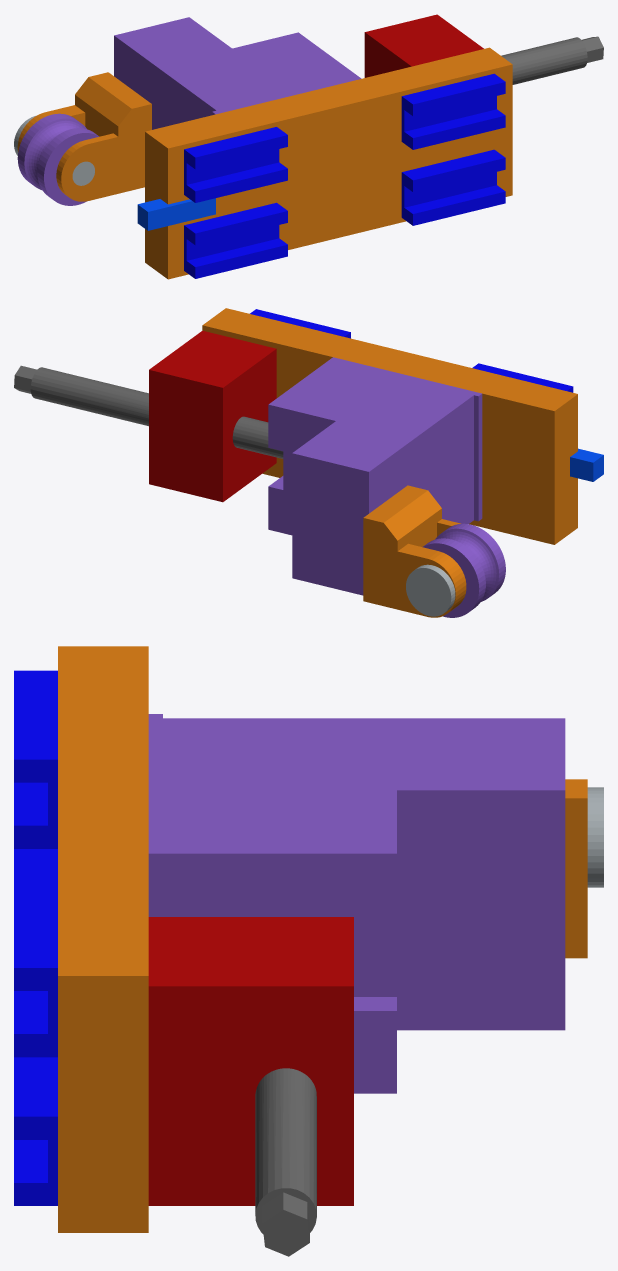
Rendered from mengene2.glb.
The picture shows the model from 3 angles, top to bottom: view 1: azimuth 30°, elevation 25°; view 2: azimuth 150°, elevation 25°; view 3: azimuth 270°, elevation 25°; orthographic projection. The views are drawn at different scales.
Visible parts, largest first — view 1: 02 - 15 - MENGENE TA\X2\015E\X0\IYICI, 02-08-Cene-Tasiyici-Delik-Delmeli-R013, 02 - 15 - MENGENE TA\X2\015E\X0\IYICI003, 02 - 18 - ROL\X2\0130\X0\NG -014, 02-08-Cene-Tasiyici-Delik-Delmeli-R002, 02 - 14 - MENGENE KOL V\X2\0130\X0\DASI DESTEK-65 MERKEZ001, 02 - 40 - KOL V\X2\0130\X0\DASI010, 02 - 15 - MENGENE TA\X2\015E\X0\IYICI004, SOLID053, SOLID031, SOLID042, SOLID020 (+29 smaller); view 2: 02-08-Cene-Tasiyici-Delik-Delmeli-R013, 02 - 15 - MENGENE TA\X2\015E\X0\IYICI002, 02-08-Cene-Tasiyici-Delik-Delmeli-R009, 02 - 14 - MENGENE KOL V\X2\0130\X0\DASI DESTEK-65 MERKEZ006, 02 - 15 - MENGENE TA\X2\015E\X0\IYICI003, 02-08-Cene-Tasiyici-Delik-Delmeli-R002, 02 - 40 - KOL V\X2\0130\X0\DASI010, 02 - 14 - MENGENE KOL V\X2\0130\X0\DASI DESTEK-65 MERKEZ002, 02 - 18 - ROL\X2\0130\X0\NG -008, 02 - 14 - MENGENE KOL V\X2\0130\X0\DASI DESTEK-65 MERKEZ001, 02-08-Cene-Tasiyici-Delik-Delmeli-R008, 02 - 15 - MENGENE TA\X2\015E\X0\IYICI004 (+14 smaller); view 3: 02-08-Cene-Tasiyici-Delik-Delmeli-R013, 02-08-Cene-Tasiyici-Delik-Delmeli-R010, 02 - 14 - MENGENE KOL V\X2\0130\X0\DASI DESTEK-65 MERKEZ004, 02 - 15 - MENGENE TA\X2\015E\X0\IYICI003, 02 - 15 - MENGENE TA\X2\015E\X0\IYICI005, 02-08-Cene-Tasiyici-Delik-Delmeli-R012, 02 - 14 - MENGENE KOL V\X2\0130\X0\DASI DESTEK-65 MERKEZ001, 02 - 40 - KOL V\X2\0130\X0\DASI010, SOLID037, SOLID018, 02 - 18 - ROL\X2\0130\X0\NG -015, SOLID040 (+10 smaller).
Boxes of the visible parts, x1,y1,x2,y2 form: 02 - 15 - MENGENE TA\X2\015E\X0\IYICI: (168,64,512,279); 02-08-Cene-Tasiyici-Delik-Delmeli-R013: (114,17,361,114); 02 - 15 - MENGENE TA\X2\015E\X0\IYICI003: (145,47,512,148); 02 - 18 - ROL\X2\0130\X0\NG -014: (61,104,151,201); 02-08-Cene-Tasiyici-Delik-Delmeli-R002: (114,36,215,129); 02 - 14 - MENGENE KOL V\X2\0130\X0\DASI DESTEK-65 MERKEZ001: (365,14,483,66); 02 - 40 - KOL V\X2\0130\X0\DASI010: (501,37,587,84); 02 - 15 - MENGENE TA\X2\015E\X0\IYICI004: (145,132,167,278); SOLID053: (186,225,279,260); SOLID031: (186,149,279,184); SOLID042: (404,172,496,207); SOLID020: (404,96,496,131); 02-08-Cene-Tasiyici-Delik-Delmeli-R013: (269,357,481,471); 02 - 15 - MENGENE TA\X2\015E\X0\IYICI002: (202,325,554,544); 02-08-Cene-Tasiyici-Delik-Delmeli-R009: (292,453,368,595); 02 - 14 - MENGENE KOL V\X2\0130\X0\DASI DESTEK-65 MERKEZ006: (149,370,222,502); 02 - 15 - MENGENE TA\X2\015E\X0\IYICI003: (203,308,577,410); 02-08-Cene-Tasiyici-Delik-Delmeli-R002: (369,395,473,523); 02 - 40 - KOL V\X2\0130\X0\DASI010: (30,367,283,458); 02 - 14 - MENGENE KOL V\X2\0130\X0\DASI DESTEK-65 MERKEZ002: (223,349,276,501); 02 - 18 - ROL\X2\0130\X0\NG -008: (363,518,455,617); 02 - 14 - MENGENE KOL V\X2\0130\X0\DASI DESTEK-65 MERKEZ001: (149,330,275,387); 02-08-Cene-Tasiyici-Delik-Delmeli-R008: (268,404,335,535); 02 - 15 - MENGENE TA\X2\015E\X0\IYICI004: (554,394,577,544); 02-08-Cene-Tasiyici-Delik-Delmeli-R013: (148,714,565,853); 02-08-Cene-Tasiyici-Delik-Delmeli-R010: (397,790,565,1030); 02 - 14 - MENGENE KOL V\X2\0130\X0\DASI DESTEK-65 MERKEZ004: (148,986,353,1205); 02 - 15 - MENGENE TA\X2\015E\X0\IYICI003: (58,646,148,975); 02 - 15 - MENGENE TA\X2\015E\X0\IYICI005: (58,976,148,1232); 02-08-Cene-Tasiyici-Delik-Delmeli-R012: (148,853,396,1093); 02 - 14 - MENGENE KOL V\X2\0130\X0\DASI DESTEK-65 MERKEZ001: (148,917,353,986); 02 - 40 - KOL V\X2\0130\X0\DASI010: (255,1068,316,1215); SOLID037: (14,670,57,759); SOLID018: (14,879,57,967); 02 - 18 - ROL\X2\0130\X0\NG -015: (565,798,587,958); SOLID040: (14,1057,57,1116).
Size of the model in its own units: 0.5675 by 0.138 by 0.2873.
